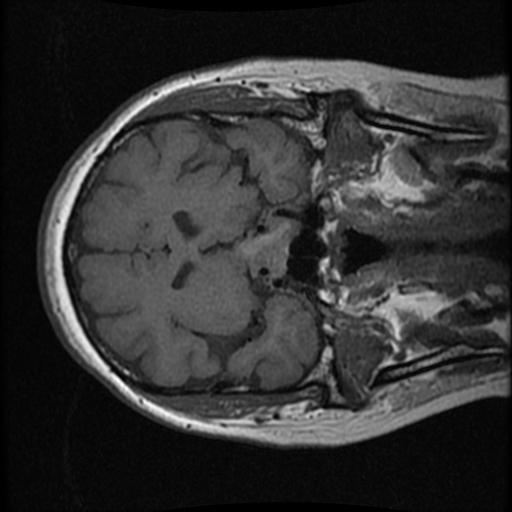pituitary tumour: (240, 216, 301, 278)
